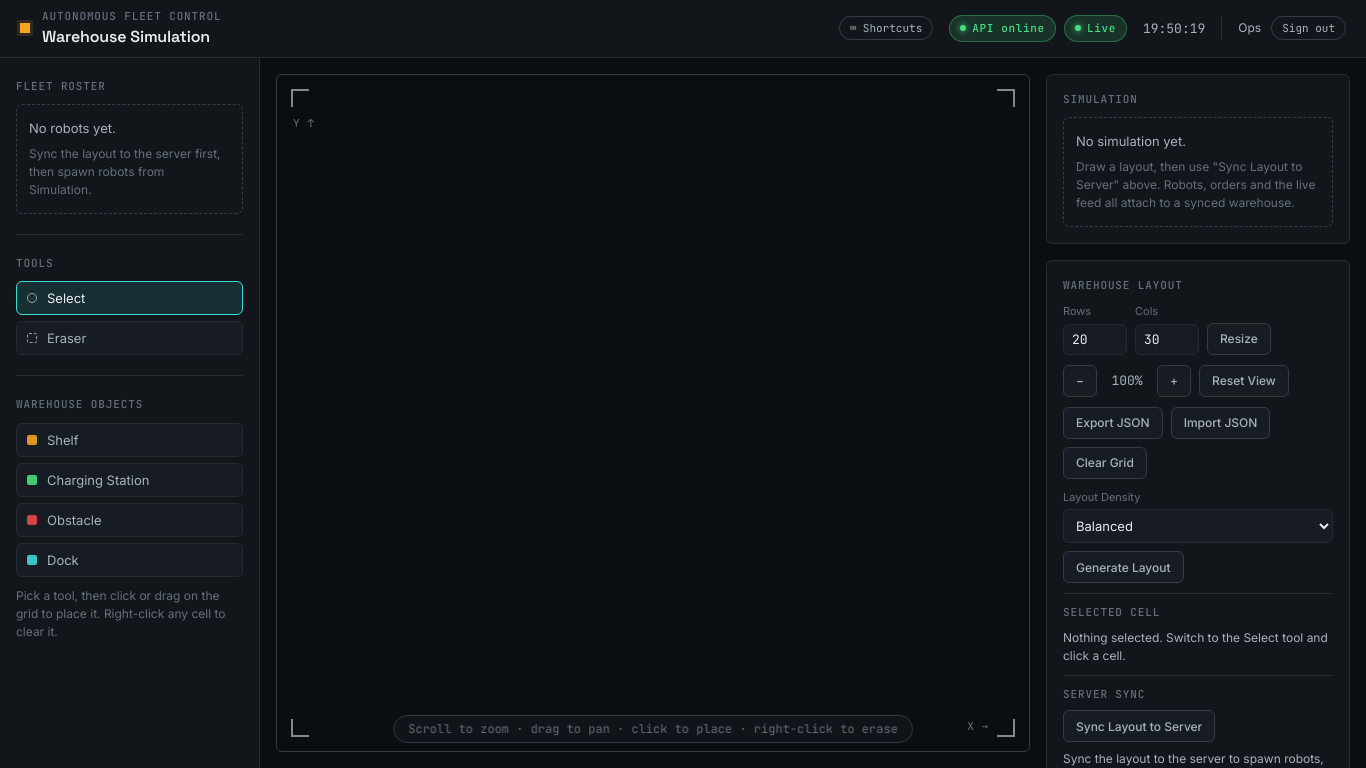
simulation start, updates and stop › moves robots on the roster as tick events arrive
This screenshot has width=1366, height=768.
What coordinates should you click on to do the following:
click the button "Sync Layout to Server"
I would click on:
 (1139, 726)
Its box is x1=1063 y1=710 x2=1215 y2=742.
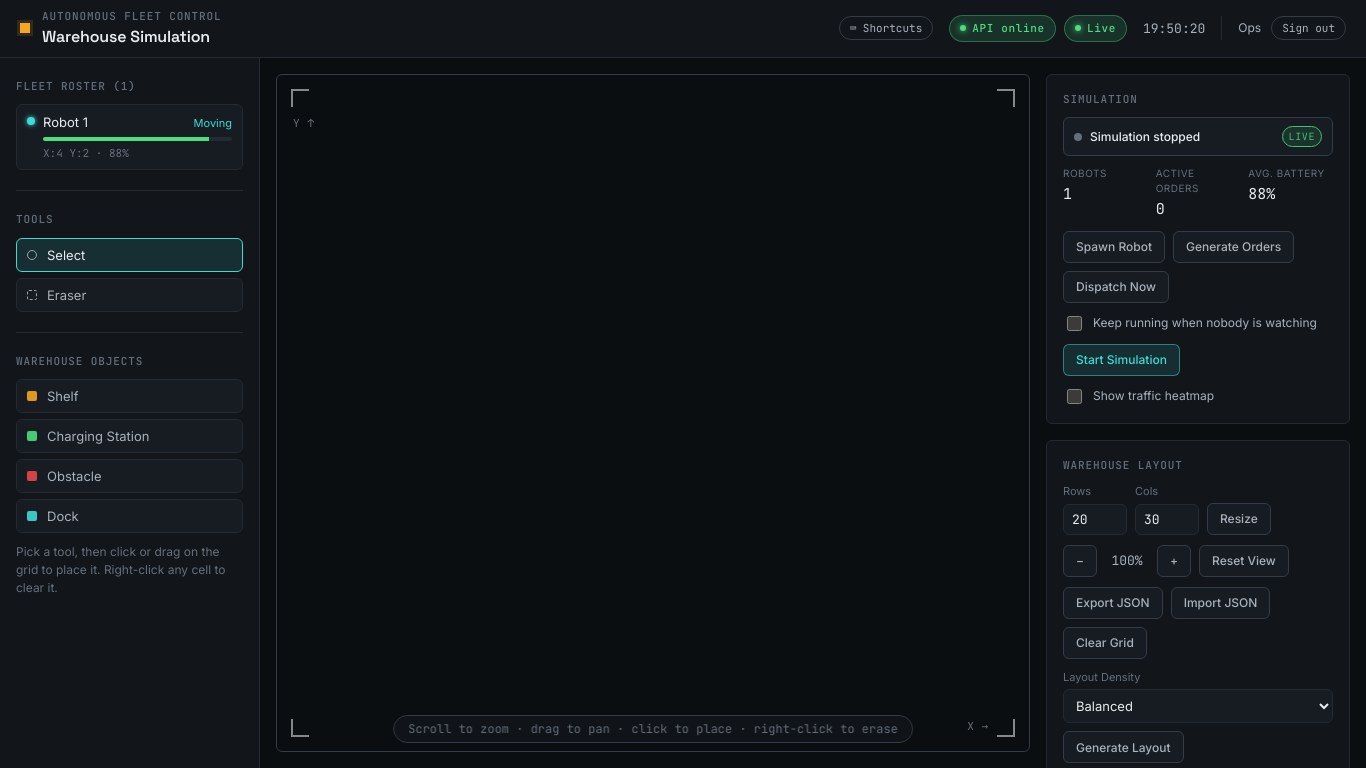
Expected: the text "Robot 1" is shown, x1=43 y1=113 x2=88 y2=132
Expected: the text "Moving" is shown, x1=194 y1=115 x2=232 y2=132
Expected: the text "X:4 Y:2 · 88%" is shown, x1=43 y1=146 x2=129 y2=160
